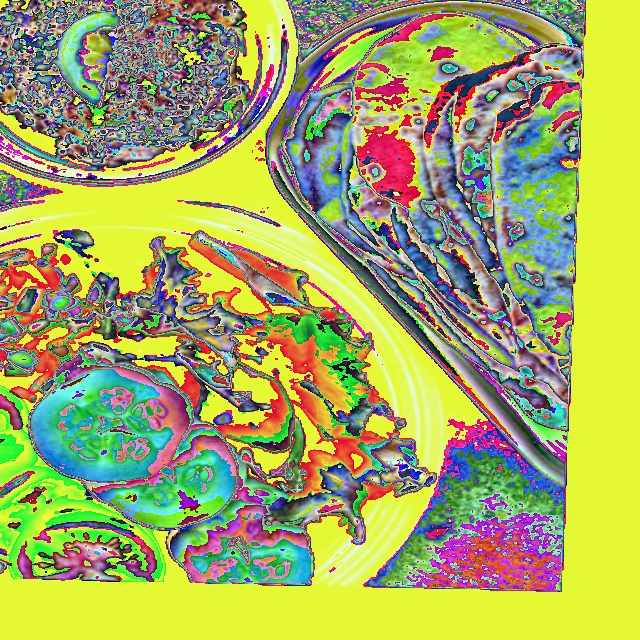background: (0, 227, 437, 584), (280, 10, 583, 431), (0, 0, 250, 170)
